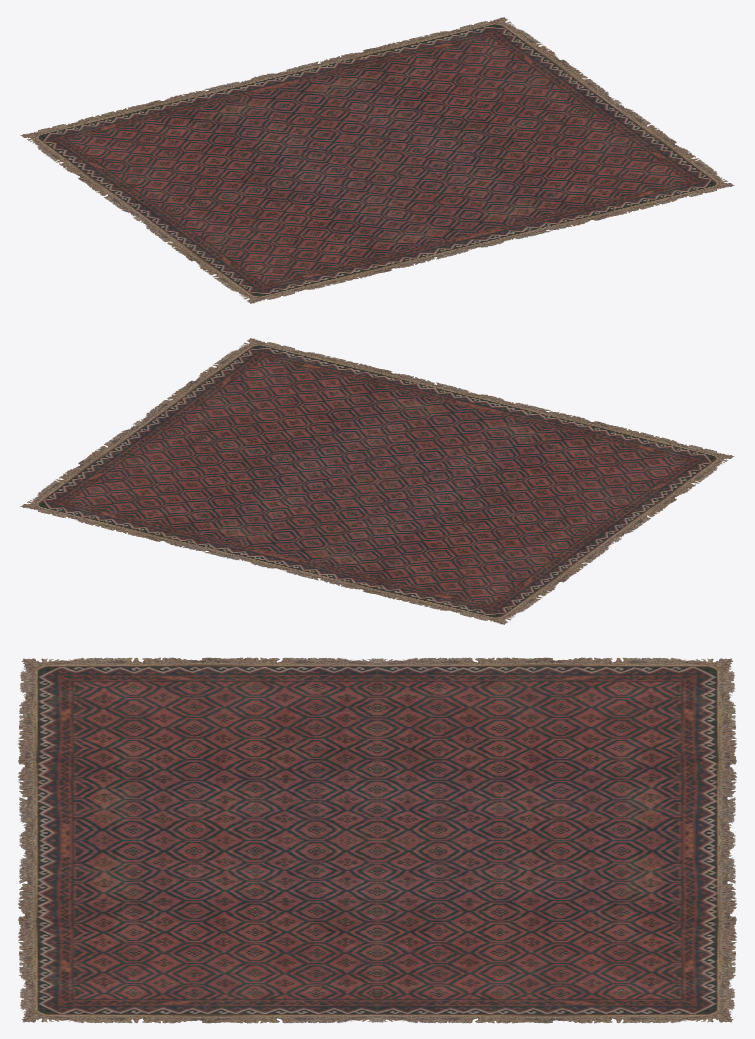
The model's file is bg_lut_lucastle_houseincapet02_sm_msj.FBX.
3 renders of one model, top to bottom at view 1: azimuth 30°, elevation 25°; view 2: azimuth 150°, elevation 25°; view 3: azimuth 270°, elevation 25°, orthographic. The views are drawn at different scales.
Parts seen in each view (by area): view 1: bg_lut_lucastle_houseincapet02_sm_msj; view 2: bg_lut_lucastle_houseincapet02_sm_msj; view 3: bg_lut_lucastle_houseincapet02_sm_msj.
Boxes of the visible parts, x1=… form: bg_lut_lucastle_houseincapet02_sm_msj: x1=20, y1=17, x2=734, y2=303; bg_lut_lucastle_houseincapet02_sm_msj: x1=20, y1=338, x2=734, y2=624; bg_lut_lucastle_houseincapet02_sm_msj: x1=18, y1=657, x2=736, y2=1023.
Bounding box in the file's own units: 768 × 3.92e-14 × 640.
